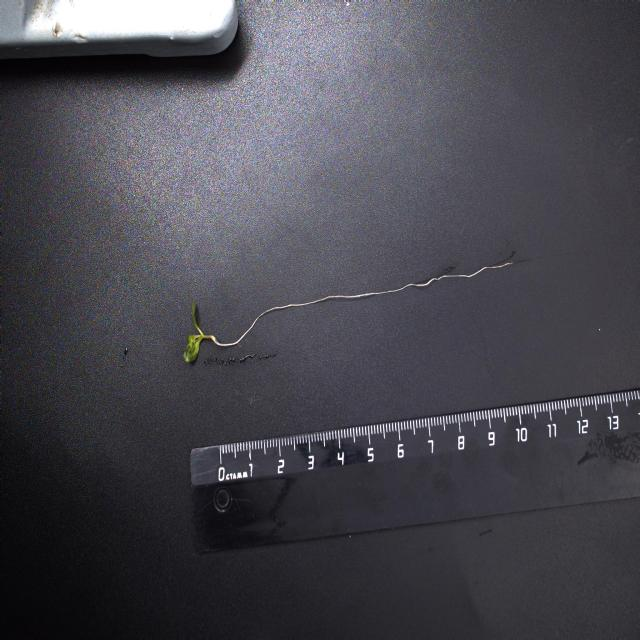leaf: (183, 301, 200, 362)
root: (217, 253, 531, 348)
steb: (202, 333, 217, 343)
